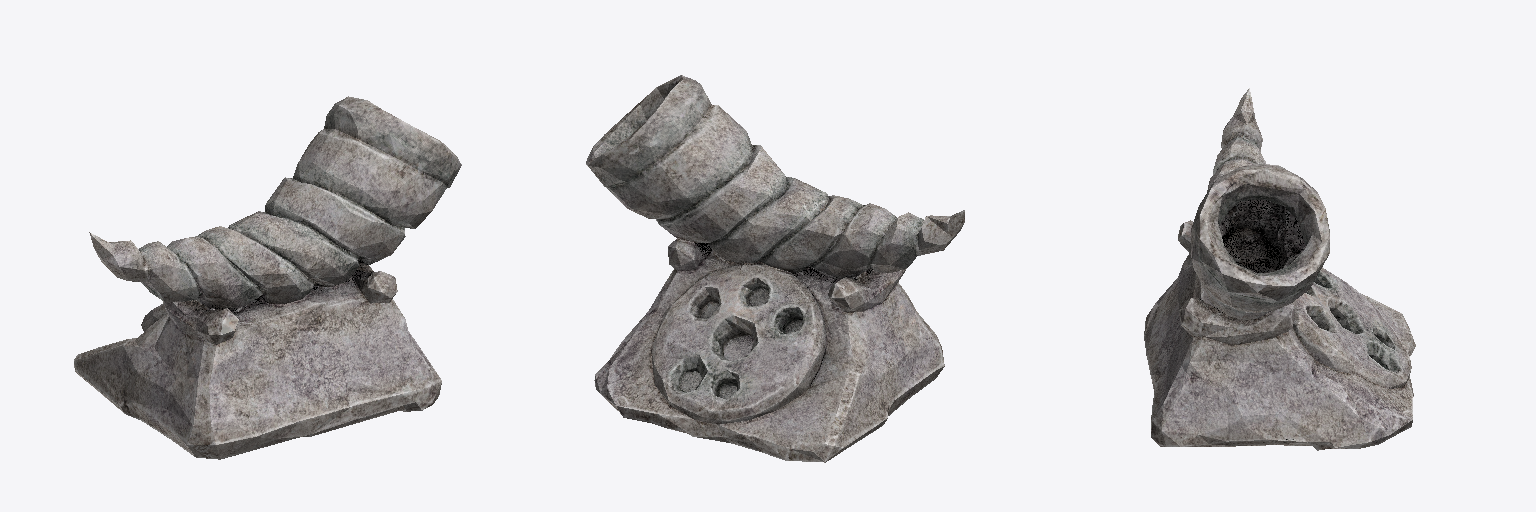
3 views of the same model, side by side, from view 1: azimuth 30°, elevation 25°; view 2: azimuth 150°, elevation 25°; view 3: azimuth 270°, elevation 25° (orthographic).
Visible parts, largest first — view 1: telefono:Mesh; view 2: telefono:Mesh; view 3: telefono:Mesh.
Part boxes in pixels (bbox=[...]): telefono:Mesh: bbox=[74, 96, 461, 459]; telefono:Mesh: bbox=[586, 75, 964, 462]; telefono:Mesh: bbox=[1144, 88, 1415, 450].
Size of the model in its own units: 0.2736 by 0.1963 by 0.1772.
1 materials, 1 textured.